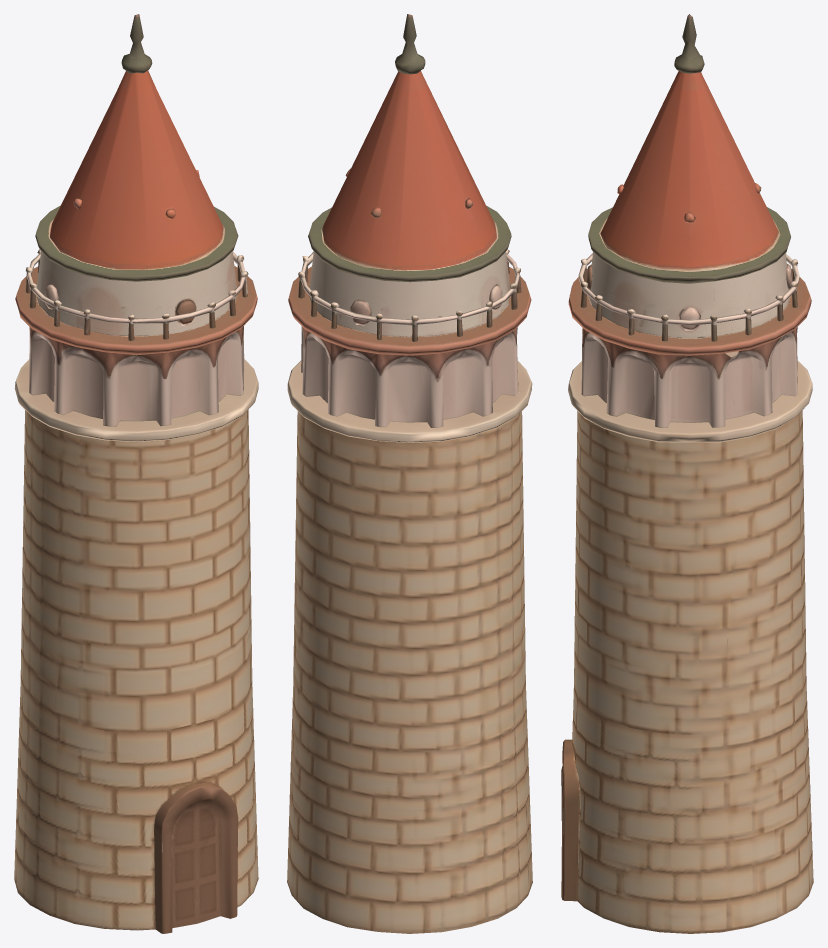
Rendered from galata-tower.glb.
3 views of the same model, side by side, from view 1: azimuth 30°, elevation 25°; view 2: azimuth 150°, elevation 25°; view 3: azimuth 270°, elevation 25° (orthographic).
Parts seen in each view (by area): view 1: mesh_node; view 2: mesh_node; view 3: mesh_node.
Part boxes in pixels (<box>): mesh_node: <box>14,14,258,933</box>; mesh_node: <box>287,14,532,933</box>; mesh_node: <box>561,14,813,933</box>.
Bounding box in the file's own units: 0.2568 × 1 × 0.2637.
Materials: 1 (1 with a texture image).
